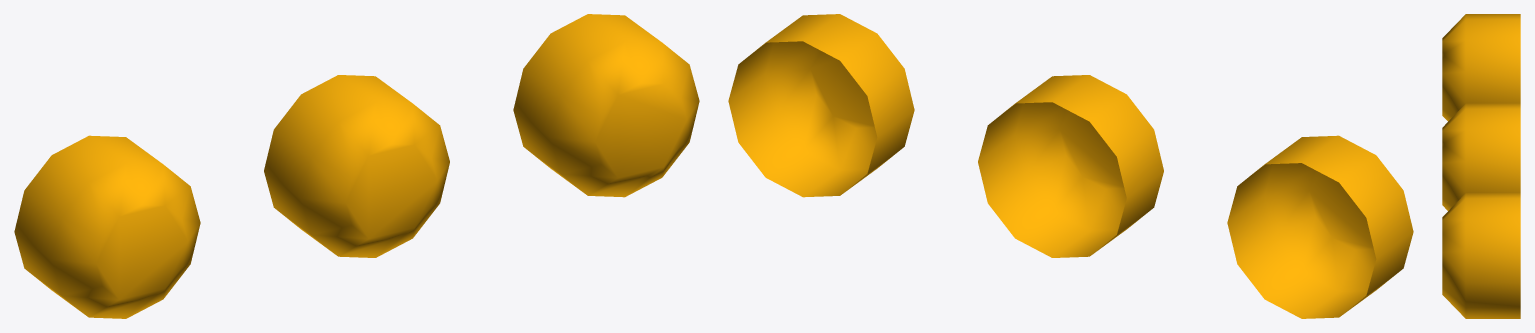
File: Drone_002_Face_Dotdotdot_001.fbx
The picture shows the model from 3 angles, left to right: view 1: azimuth 30°, elevation 25°; view 2: azimuth 150°, elevation 25°; view 3: azimuth 270°, elevation 25°; orthographic projection. The views are drawn at different scales.
Visible parts, largest first — view 1: Drone_002_Face_Dotdotdot_001; view 2: Drone_002_Face_Dotdotdot_001; view 3: Drone_002_Face_Dotdotdot_001.
Boxes of the visible parts, bbox=[...] form: Drone_002_Face_Dotdotdot_001: bbox=[14, 14, 699, 318]; Drone_002_Face_Dotdotdot_001: bbox=[728, 14, 1413, 318]; Drone_002_Face_Dotdotdot_001: bbox=[1442, 14, 1520, 318].
Bounding box in the file's own units: 8.45 × 1.2 × 1.94.
